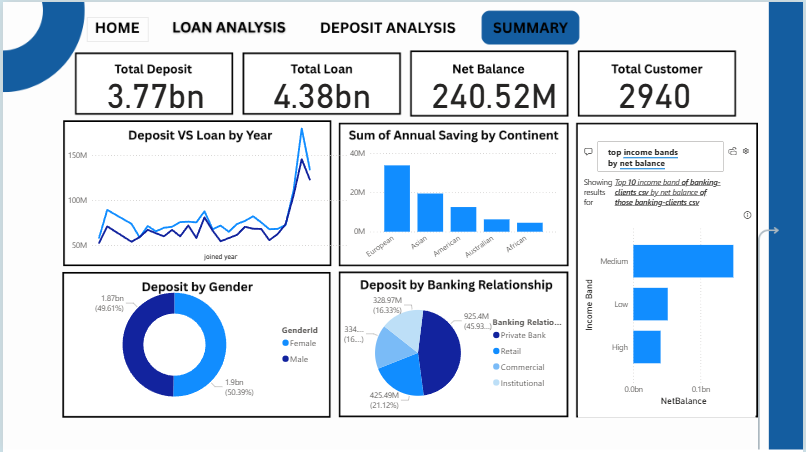

The dashboard page shown, as its layout file describes it:
{"tool":"powerbi","page":{"name":"Summary","canvas":[1280,720],"ordinal":3},"visuals":[{"type":"actionButton","box":[134.3,24.3,100,40],"z":0},{"type":"actionButton","box":[262.9,24.3,200,40],"z":1000},{"type":"actionButton","box":[495.7,24.3,235.7,40],"z":2000},{"type":"qnaVisual","box":[920,198.6,284.3,467.1],"z":3000},{"type":"card","fields":{"Values":["banking data.Total Deposit"]},"box":[158.6,100,172.9,87.1],"z":4000},{"type":"card","fields":{"Values":["banking data.Total Loan"]},"box":[424.3,100,172.9,87.1],"z":5000},{"type":"card","fields":{"Values":["banking-clients csv.NetBalance"]},"box":[680,100,211.4,87.1],"z":6000},{"type":"card","fields":{"Values":["banking-clients csv.TotalCustomers"]},"box":[955.7,100,172.9,87.1],"z":7000},{"type":"donutChart","fields":{"Y":["banking data.Total Deposit"],"Category":["banking-clients csv.GenderId"]},"box":[97.1,432.9,430,232.9],"z":8000},{"type":"areaChart","fields":{"Category":["banking-clients csv.joined year"],"Y":["Sum(banking-clients csv.Bank Deposits)","Sum(banking-clients csv.Bank Loans)"]},"box":[97.1,187.1,460,231.4],"z":9000},{"type":"columnChart","fields":{"Category":["banking-clients csv.Nationality"],"Y":["Sum(banking-clients csv.Superannuation Savings)"]},"box":[550,227.1,341.4,205.7],"z":10000},{"type":"pieChart","fields":{"Y":["Sum(banking-clients csv.Bank Deposits)"],"Category":["banking-realtionships csv.Banking Relationship"]},"box":[540,458.6,364.3,207.1],"z":11000}]}

Visuals, with their boxes in screenshot pixels (x1, y1, x2, y2), scaled from the page's 1280x720 canvas onto the 806x452 screenshot:
actionButton: x1=85 y1=15 x2=148 y2=40
actionButton: x1=166 y1=15 x2=291 y2=40
actionButton: x1=312 y1=15 x2=461 y2=40
qnaVisual: x1=579 y1=125 x2=758 y2=418
card - banking data.Total Deposit: x1=100 y1=63 x2=209 y2=117
card - banking data.Total Loan: x1=267 y1=63 x2=376 y2=117
card - banking-clients csv.NetBalance: x1=428 y1=63 x2=561 y2=117
card - banking-clients csv.TotalCustomers: x1=602 y1=63 x2=711 y2=117
donutChart - banking data.Total Deposit x banking-clients csv.GenderId: x1=61 y1=272 x2=332 y2=418
areaChart - banking-clients csv.joined year x Sum(banking-clients csv.Bank Deposits): x1=61 y1=117 x2=351 y2=263
columnChart - banking-clients csv.Nationality x Sum(banking-clients csv.Superannuation Savings): x1=346 y1=143 x2=561 y2=272
pieChart - Sum(banking-clients csv.Bank Deposits) x banking-realtionships csv.Banking Relationship: x1=340 y1=288 x2=569 y2=418
